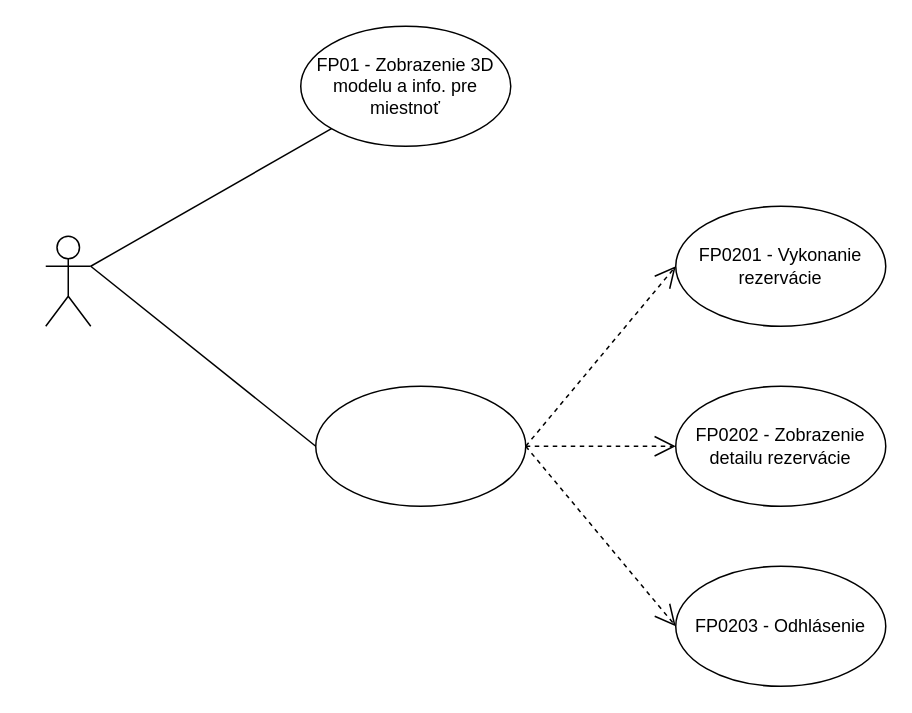
Some shapes in this 912 by 713 pixel diagram are drawn without their labels. The shapes that lost their labels are listed below. From the top down, each one's centre as x and y in pixels, then its label:
[67,280]: Používateľ
[420,445]: FP02 - Prihlásenie používateľa
